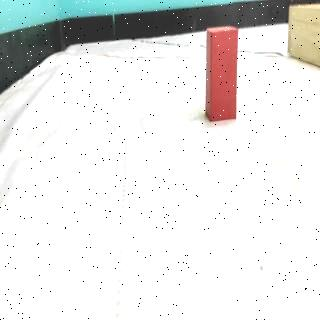redbox: (206, 25, 238, 123)
